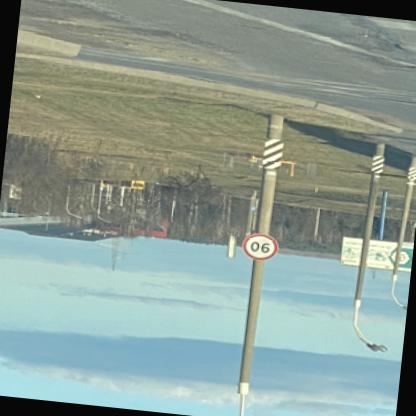speedlimit: (240, 232, 280, 264)
